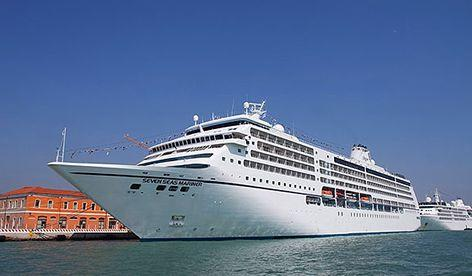youlun: (45, 108, 422, 239), (419, 193, 472, 230)
